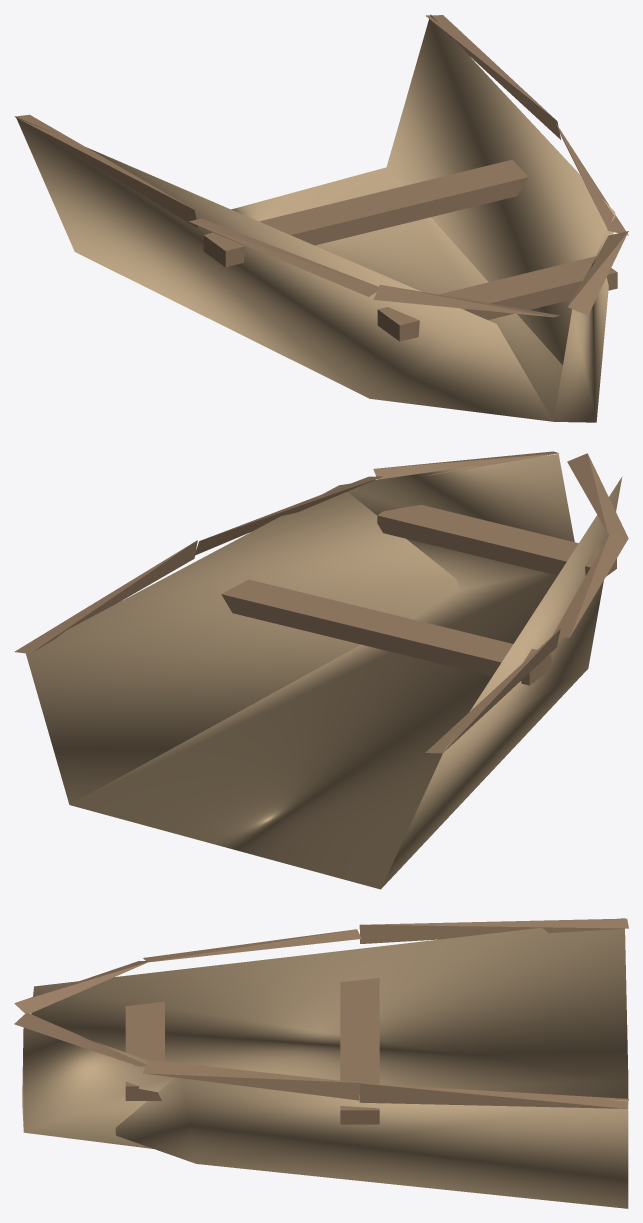
The model's file is boats.wreck_bow.lod2.glb.
3 views of the same model, one above another, from view 1: azimuth 30°, elevation 25°; view 2: azimuth 150°, elevation 25°; view 3: azimuth 270°, elevation 25° (orthographic). The views are drawn at different scales.
Parts seen in each view (by area): view 1: Hull, Seat.001, Seat, Gunwale.004, Gunwale.002, Gunwale.005, Gunwale, Gunwale.001, Gunwale.003; view 2: Hull, Seat.001, Seat, Gunwale.005, Gunwale.004, Gunwale.002, Gunwale, Gunwale.003, Gunwale.001; view 3: Hull, Seat.001, Gunwale.005, Gunwale.004, Gunwale.003, Seat, Gunwale.002, Gunwale, Gunwale.001.
Part boxes in pixels (x1,y1,x2,y2): Hull: [16, 14, 615, 422]; Seat.001: [203, 159, 528, 267]; Seat: [377, 256, 617, 341]; Gunwale.004: [14, 114, 197, 228]; Gunwale.002: [189, 218, 378, 296]; Gunwale.005: [426, 15, 560, 139]; Gunwale: [373, 285, 559, 317]; Gunwale.001: [568, 231, 628, 315]; Gunwale.003: [556, 123, 628, 235]; Hull: [25, 454, 622, 889]; Seat.001: [221, 579, 551, 685]; Seat: [377, 505, 616, 576]; Gunwale.005: [14, 540, 197, 653]; Gunwale.004: [425, 629, 560, 753]; Gunwale.002: [552, 533, 628, 637]; Gunwale: [567, 453, 627, 537]; Gunwale.003: [195, 476, 382, 555]; Gunwale.001: [373, 451, 558, 479]; Hull: [22, 918, 628, 1208]; Seat.001: [340, 978, 379, 1124]; Gunwale.005: [359, 1083, 628, 1108]; Gunwale.004: [359, 918, 628, 943]; Gunwale.003: [143, 1060, 360, 1100]; Seat: [125, 1001, 164, 1100]; Gunwale.002: [143, 929, 361, 962]; Gunwale: [14, 961, 150, 1013]; Gunwale.001: [14, 1012, 146, 1066].
Bounding box in the file's own units: 2.48 × 0.8793 × 3.44.
